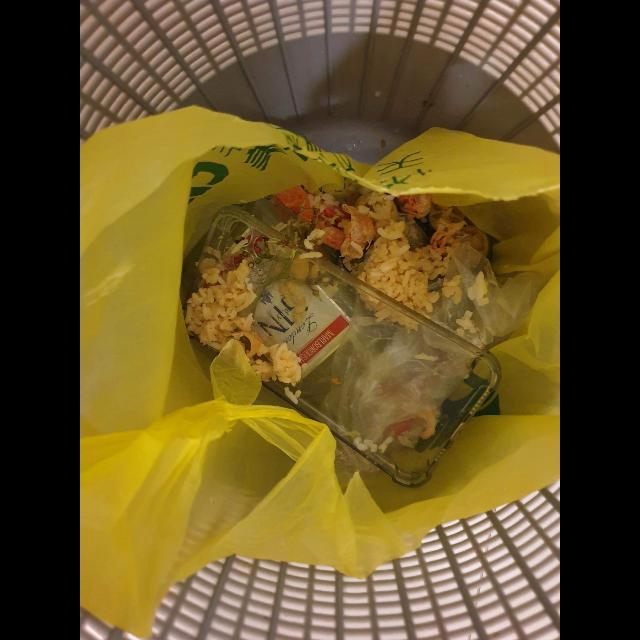left_over_food: (273, 185, 468, 319), (185, 260, 302, 387)
